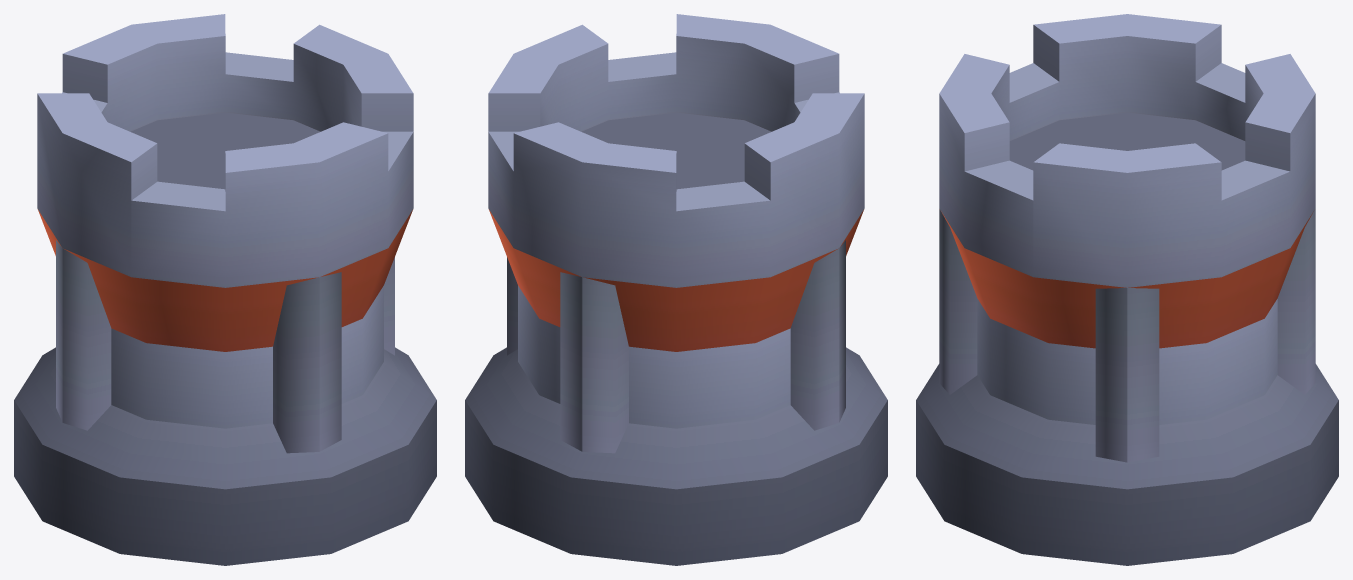
Rendered from kenney-tower-defense-tower-round-build-a.glb.
3 views of the same model, side by side, from view 1: azimuth 30°, elevation 25°; view 2: azimuth 150°, elevation 25°; view 3: azimuth 270°, elevation 25° (orthographic).
Parts seen in each view (by area): view 1: tower-round-build-a; view 2: tower-round-build-a; view 3: tower-round-build-a.
Boxes of the visible parts, x1=… form: tower-round-build-a: x1=14, y1=14, x2=436, y2=565; tower-round-build-a: x1=465, y1=14, x2=887, y2=565; tower-round-build-a: x1=916, y1=14, x2=1338, y2=565.
Size of the model in its own units: 1 by 1 by 1.
1 material, 1 textured.
